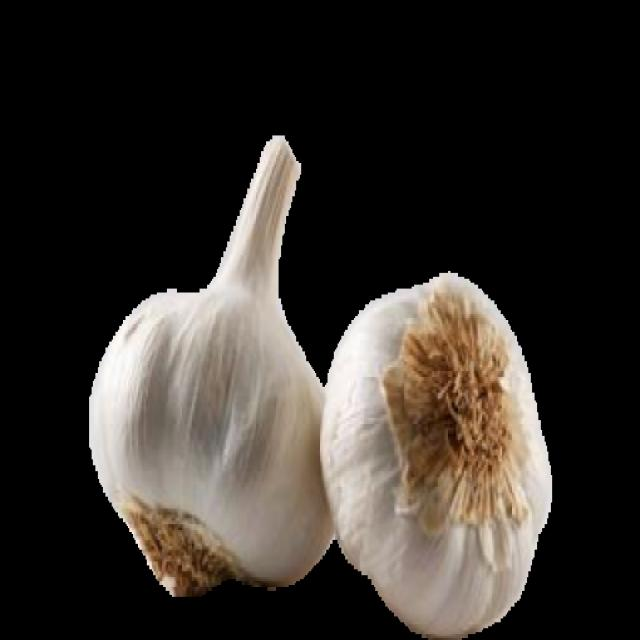garlic: (86, 257, 557, 640)
